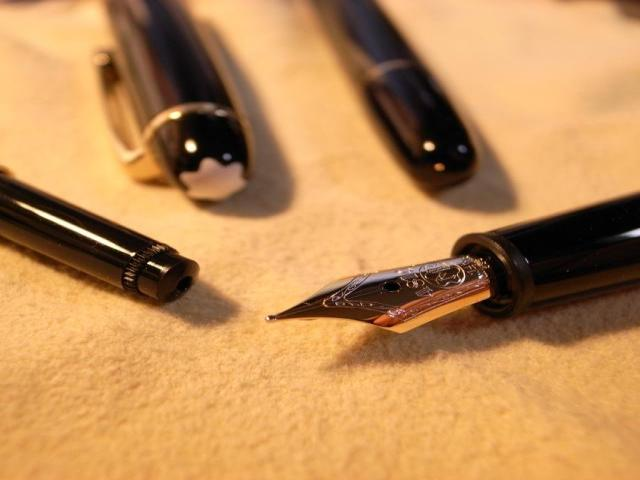PEN: (265, 206, 640, 381), (295, 0, 500, 197), (79, 9, 268, 204), (0, 186, 204, 348)
